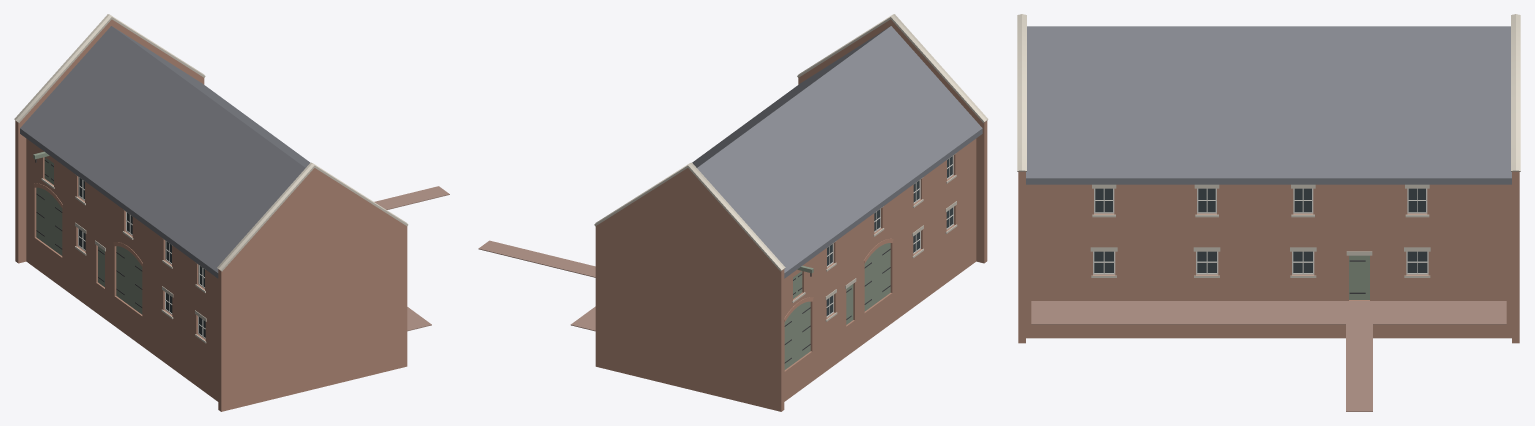
File: henderson_house_1816_prairie_coach_house__as_standing_1904.glb
The picture shows the model from 3 angles, left to right: view 1: azimuth 30°, elevation 25°; view 2: azimuth 150°, elevation 25°; view 3: azimuth 270°, elevation 25°; orthographic projection. The views are drawn at different scales.
Visible parts, largest first — view 1: henderson_house_1816_prairie_coach_house__as_standing_1904; view 2: henderson_house_1816_prairie_coach_house__as_standing_1904; view 3: henderson_house_1816_prairie_coach_house__as_standing_1904.
Part boxes in pixels (x1,y1,x2,y2): henderson_house_1816_prairie_coach_house__as_standing_1904: (14, 14, 449, 411); henderson_house_1816_prairie_coach_house__as_standing_1904: (478, 14, 988, 411); henderson_house_1816_prairie_coach_house__as_standing_1904: (1017, 14, 1520, 411).
Size of the model in its own units: 23.22 by 13.51 by 22.5.
